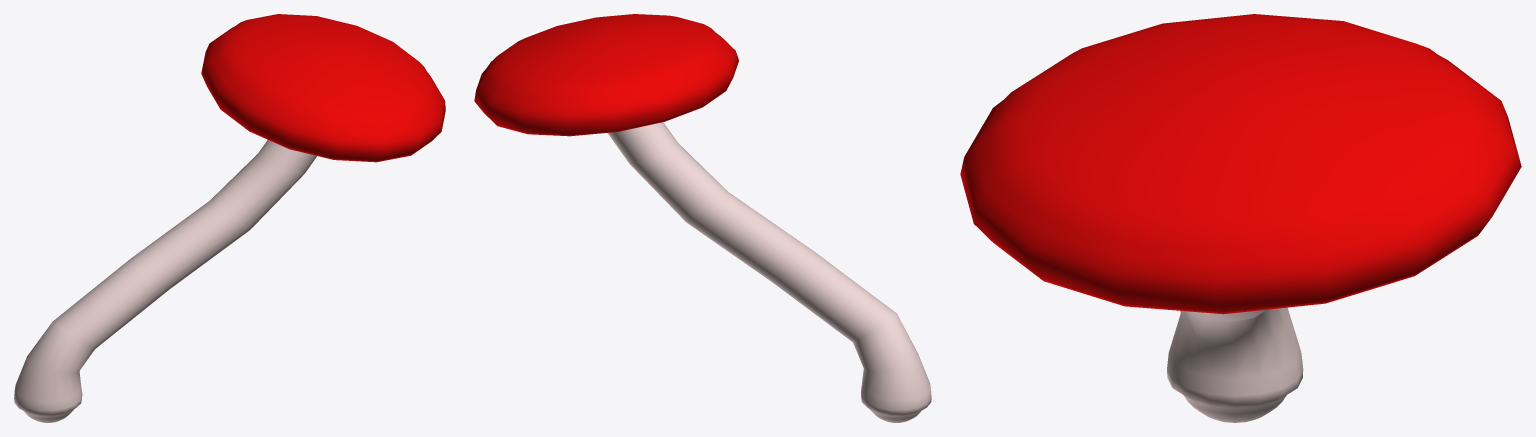
File: Mushroom_Weird.fbx
The picture shows the model from 3 angles, left to right: view 1: azimuth 30°, elevation 25°; view 2: azimuth 150°, elevation 25°; view 3: azimuth 270°, elevation 25°; orthographic projection. The views are drawn at different scales.
Parts seen in each view (by area): view 1: Weirdshroom_Body; view 2: Weirdshroom_Body; view 3: Weirdshroom_Body.
Boxes of the visible parts, x1,y1,x2,y2 form: Weirdshroom_Body: (14, 14, 445, 422); Weirdshroom_Body: (474, 14, 931, 422); Weirdshroom_Body: (960, 14, 1521, 422).
Size of the model in its own units: 1801 by 1078 by 1292.
